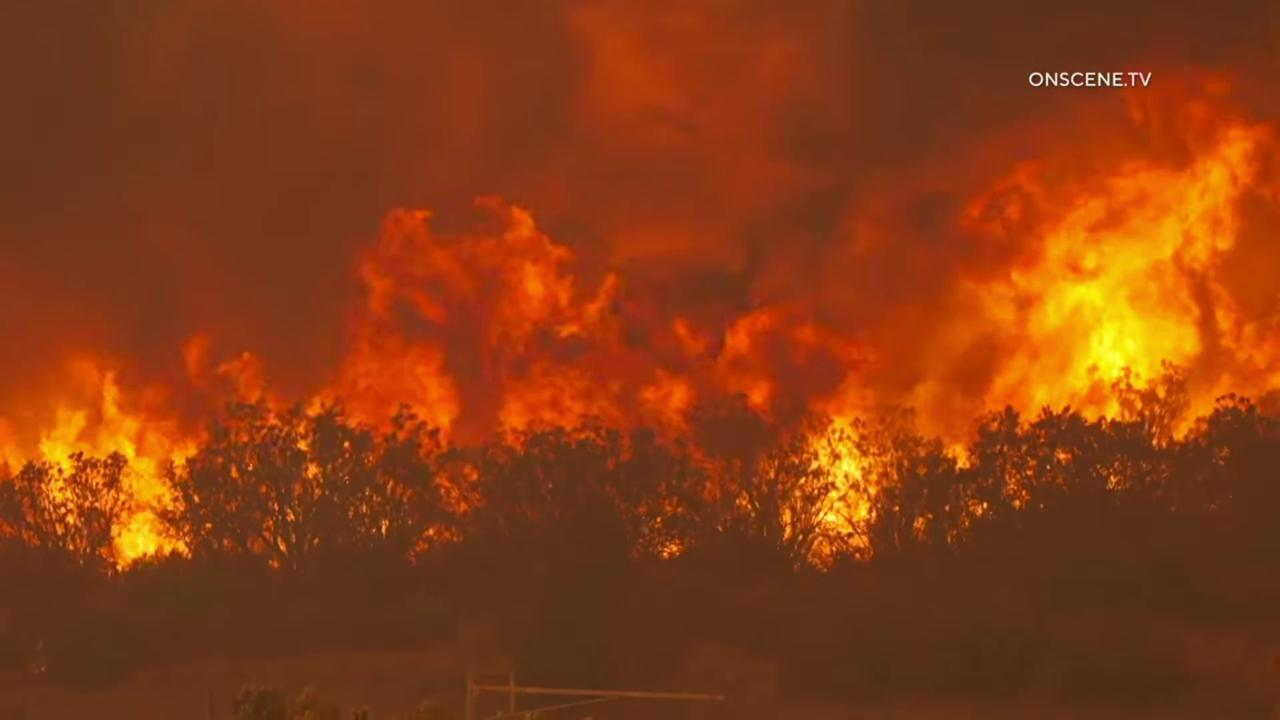fire: (294, 186, 906, 570), (937, 52, 1280, 552), (0, 315, 295, 580)
smoke: (0, 0, 1280, 720)
